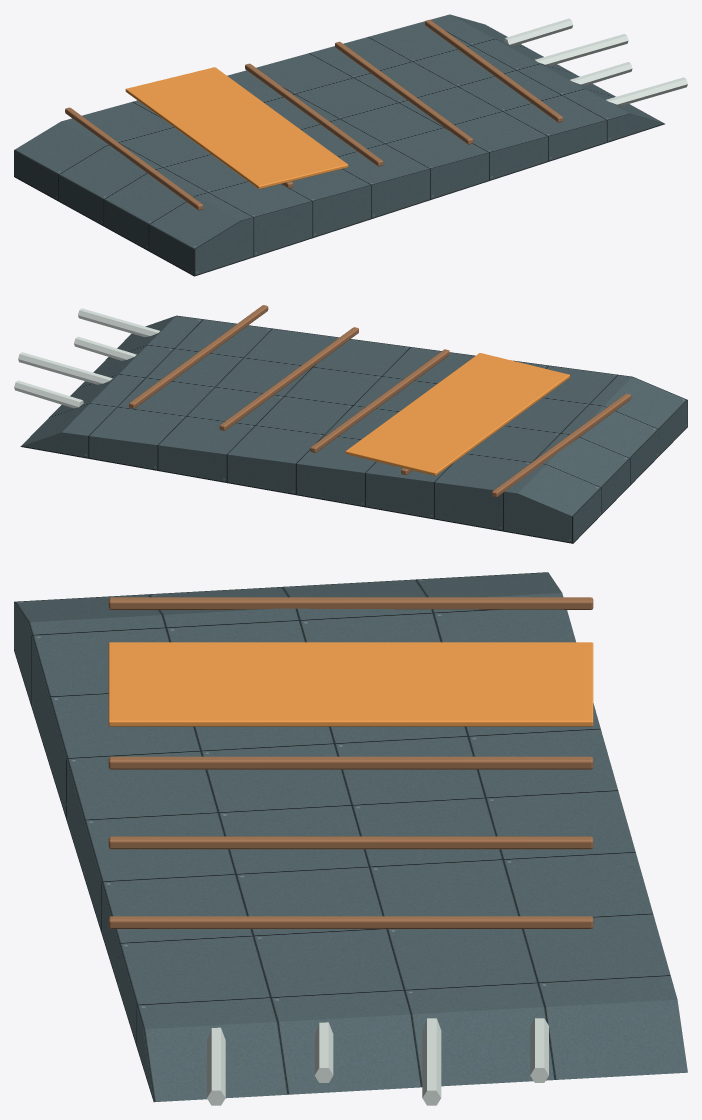
Rendered from torn-wing-section.glb.
3 views of the same model, one above another, from view 1: azimuth 30°, elevation 25°; view 2: azimuth 150°, elevation 25°; view 3: azimuth 270°, elevation 25° (orthographic). The views are drawn at different scales.
Visible parts, largest first — view 1: torn-wing-section; view 2: torn-wing-section; view 3: torn-wing-section.
Part boxes in pixels (box(x1,y1,x2,y2)): torn-wing-section: box(14, 14, 687, 276); torn-wing-section: box(14, 305, 687, 543); torn-wing-section: box(14, 572, 687, 1105).
Size of the model in its own units: 4.51 by 0.3651 by 2.5.
Materials: 4 (1 with a texture image).
